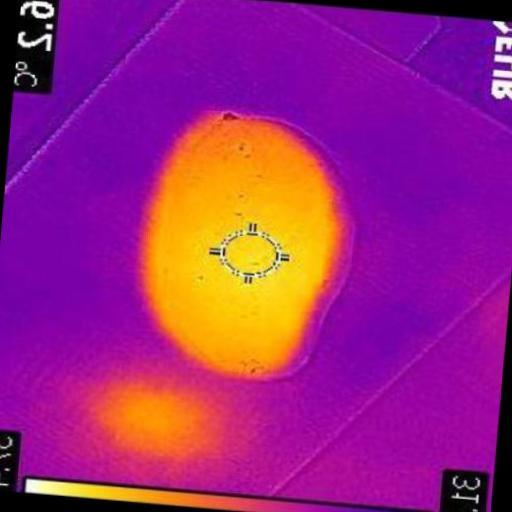alphanso: (143, 113, 349, 378)
